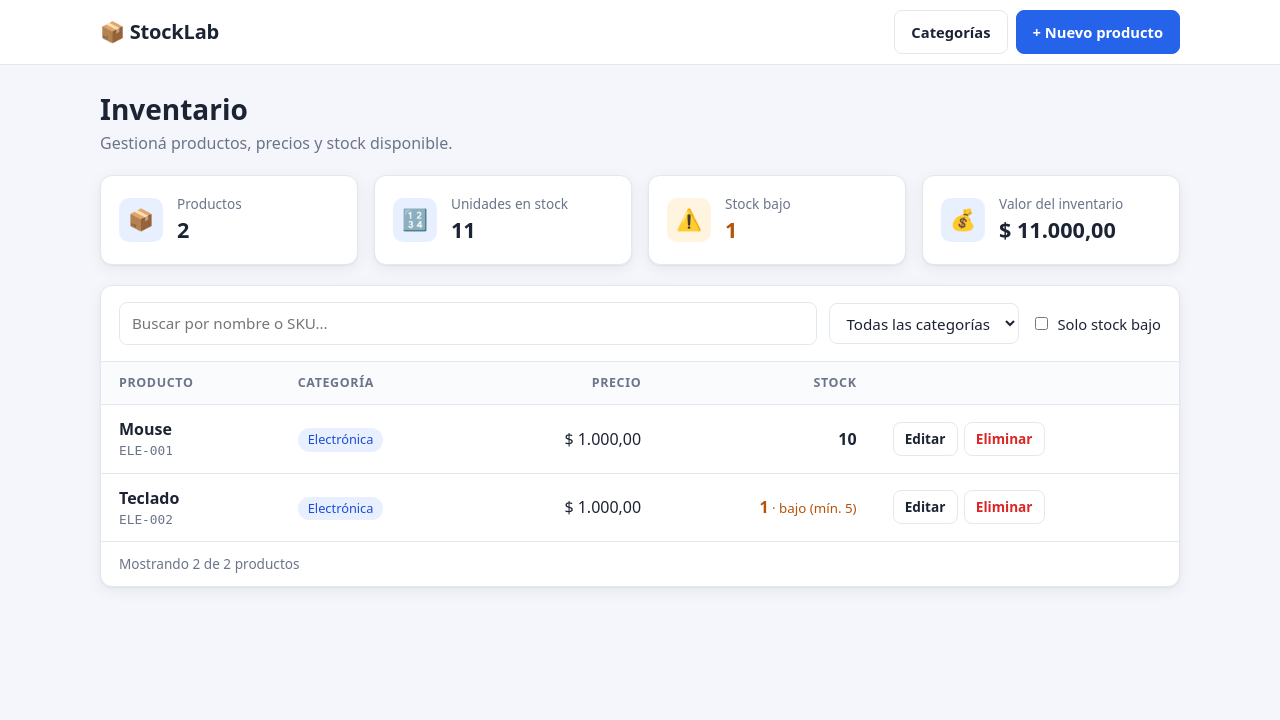
Test case: App › pide confirmación antes de eliminar un producto
Check: the text "Mouse" is shown, box [119, 418, 172, 440]
Click the button with aria-label "Eliminar Mouse". click: (1004, 439)
box: [964, 422, 1045, 456]
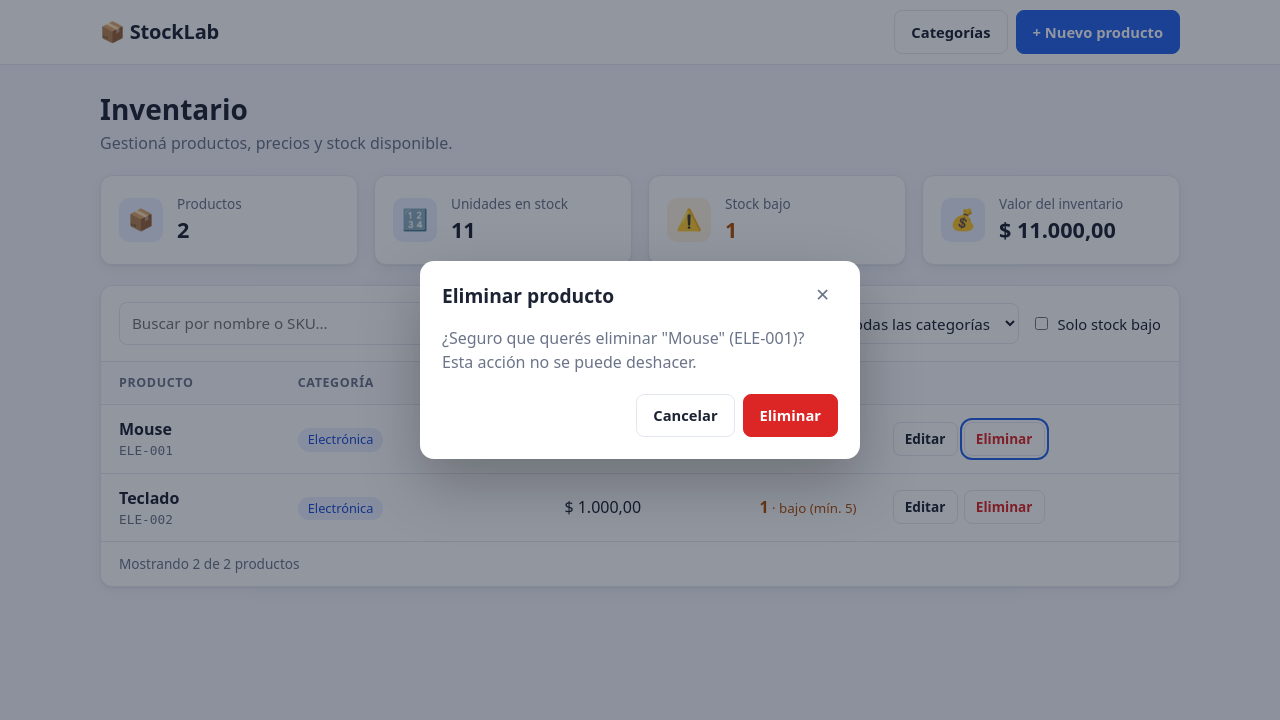
Check: the dialog shows "ELE-001", box [442, 327, 805, 373]
Click the button "Eliminar". click: (790, 416)
box: [743, 394, 838, 437]
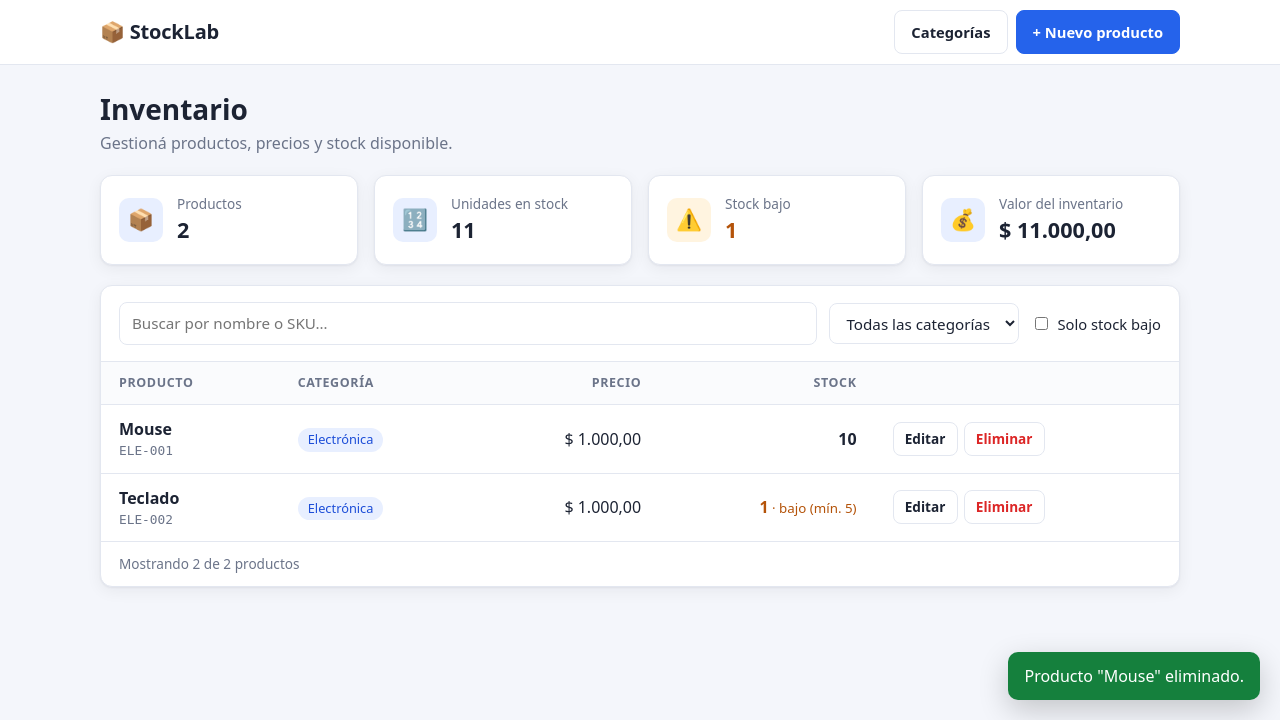
Check: the message shows "eliminado", box [1024, 665, 1244, 687]
